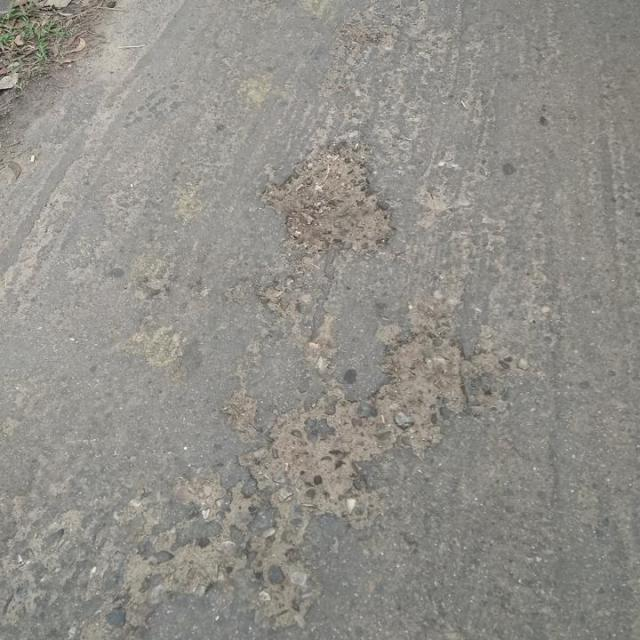Pothole: (241, 389, 373, 520), (255, 141, 397, 262), (369, 328, 474, 455)
